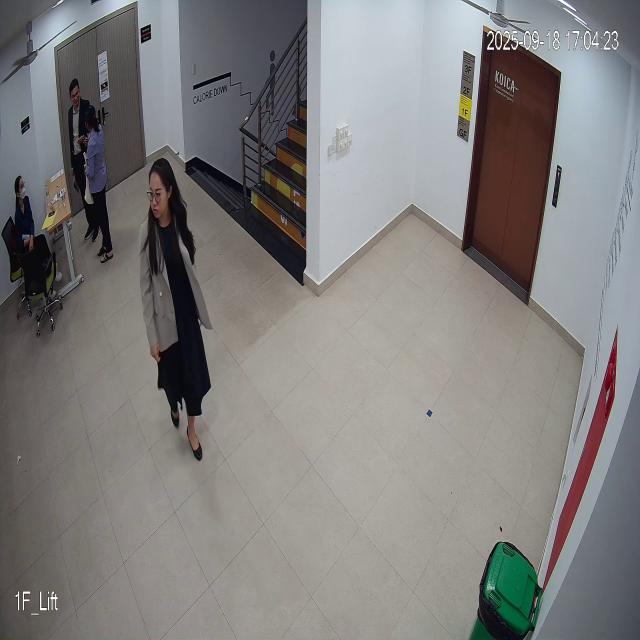face: (147, 155, 176, 219)
